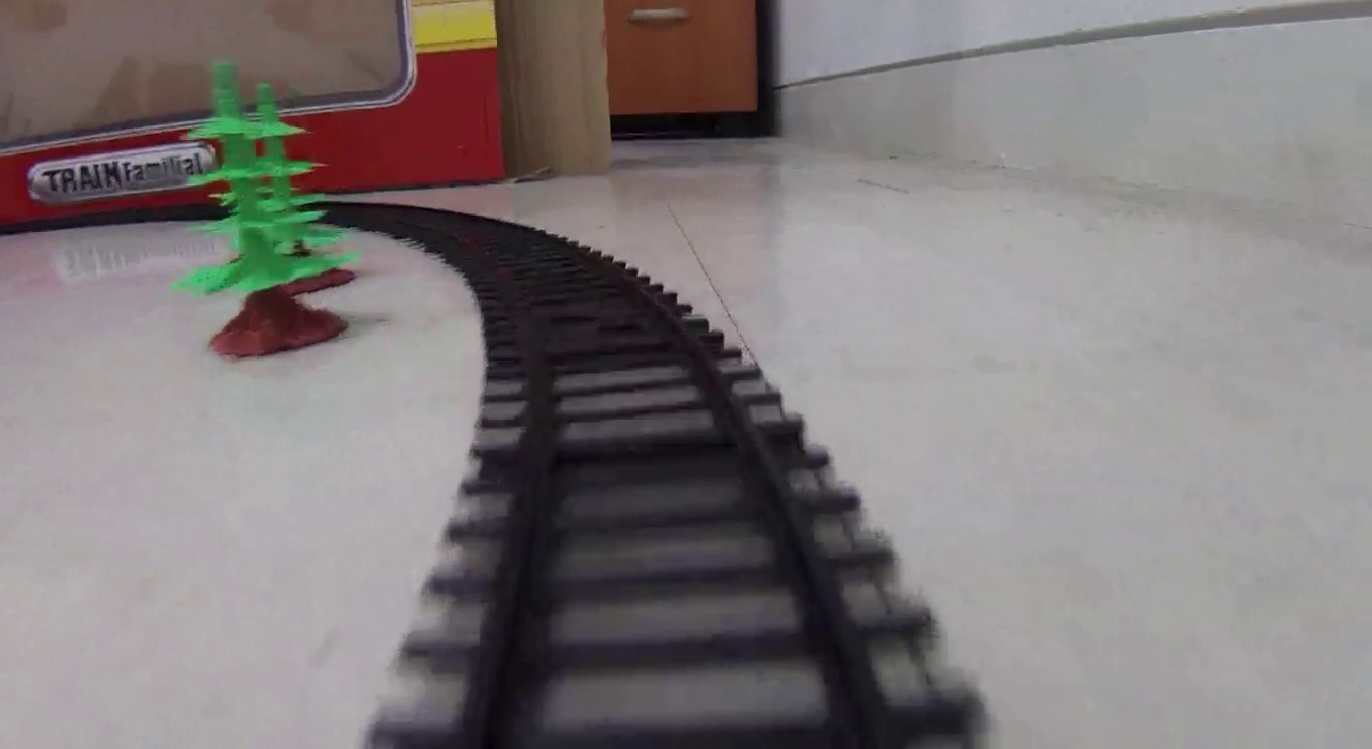tree: (180, 56, 351, 364)
